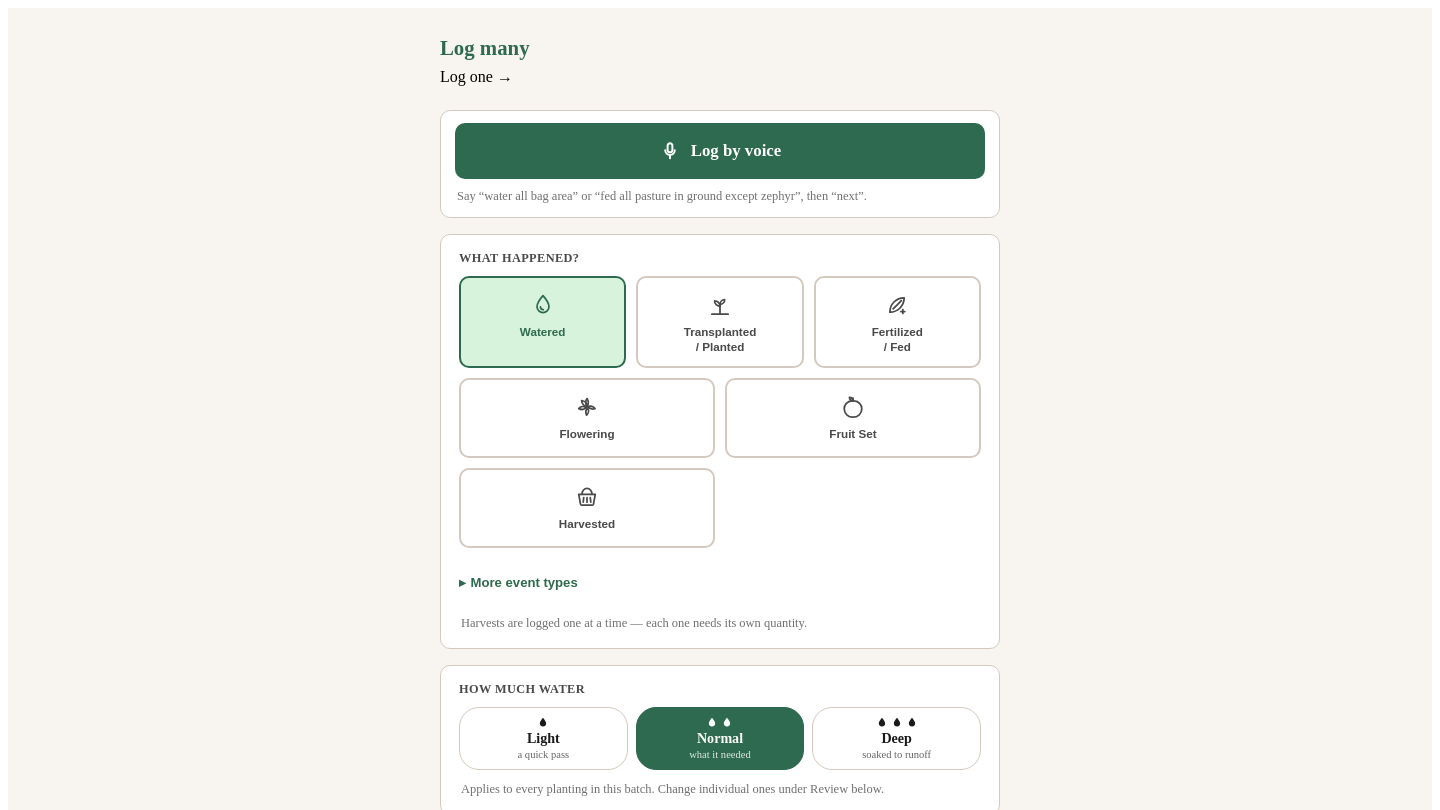
Test case: refusals — the whole command, nothing written, no confirm window › an ambiguous name is refused, naming the candidates
The width and height of the screenshot is (1440, 810).
Step 1. Click the button with test id "lmv-start" → (720, 151), box x1=455 y1=123 x2=985 y2=179
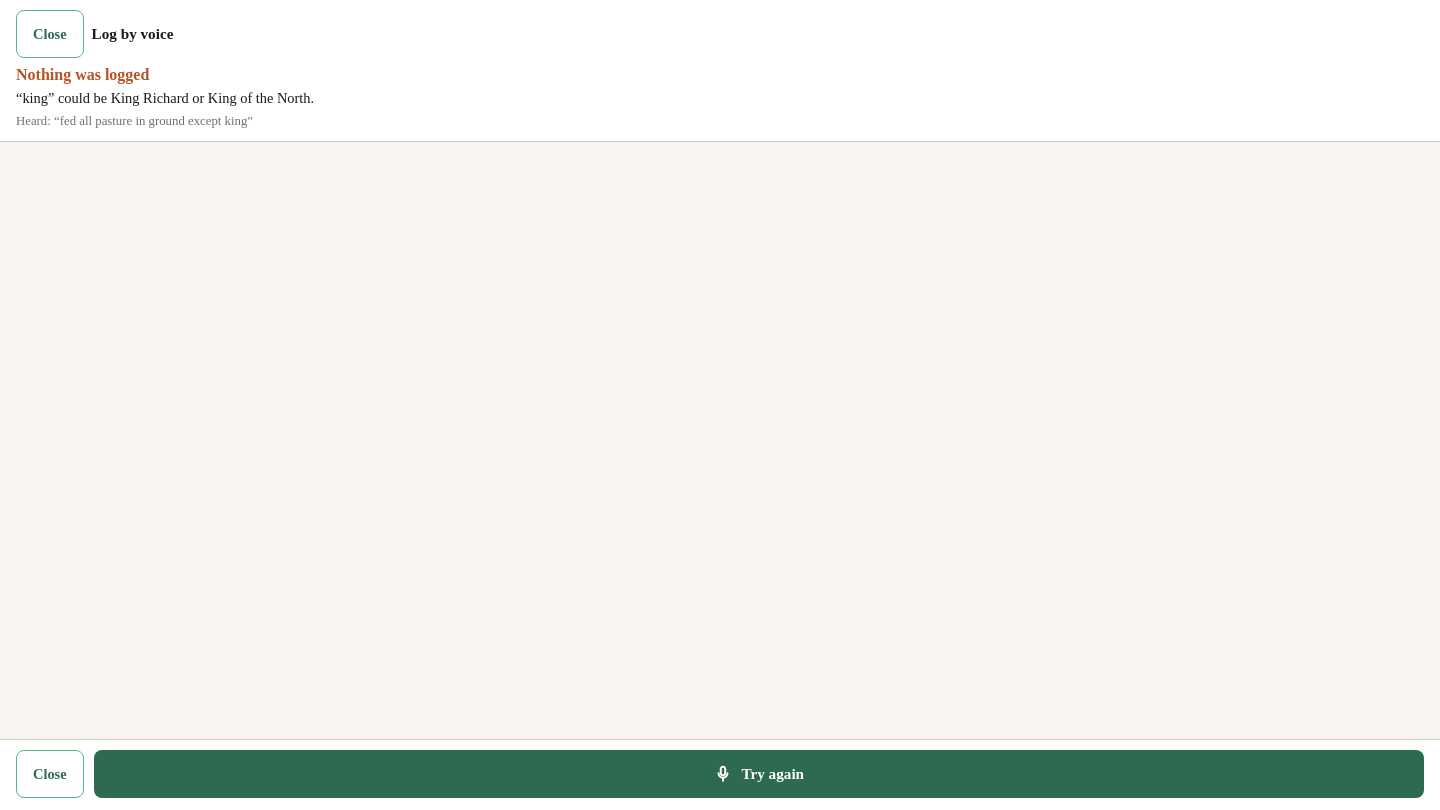
Now the text with test id "lmv-message" reads "“king” could be King Richard or King of the North.", box x1=16 y1=90 x2=314 y2=106
